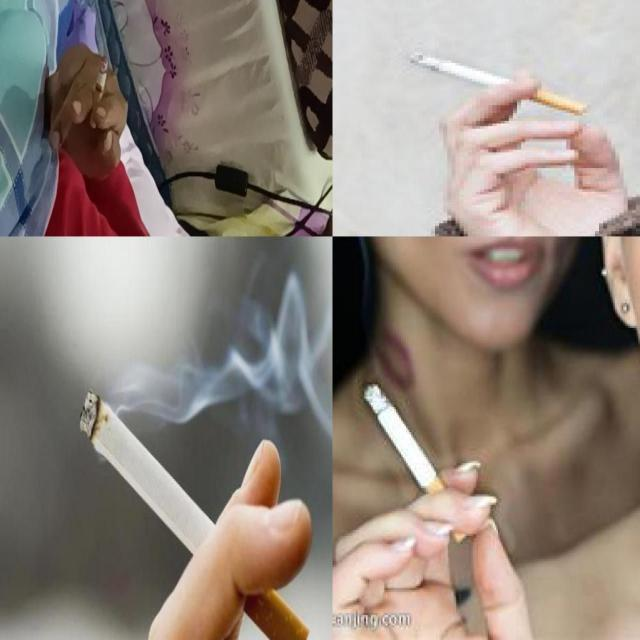smoke: (80, 391, 310, 638), (362, 381, 468, 544), (402, 47, 587, 113), (88, 56, 108, 130)
